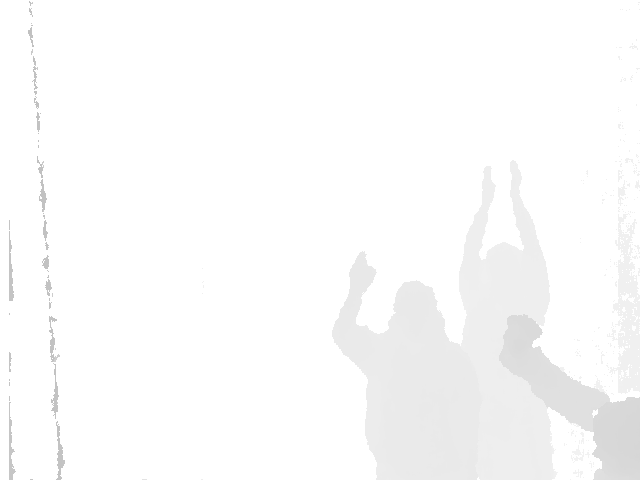hand: (500, 315, 543, 358), (346, 250, 380, 295), (506, 161, 526, 207), (481, 163, 500, 208)
head: (389, 277, 445, 344), (481, 240, 526, 295)
person: (331, 249, 466, 480), (458, 161, 553, 480), (496, 315, 640, 480)
